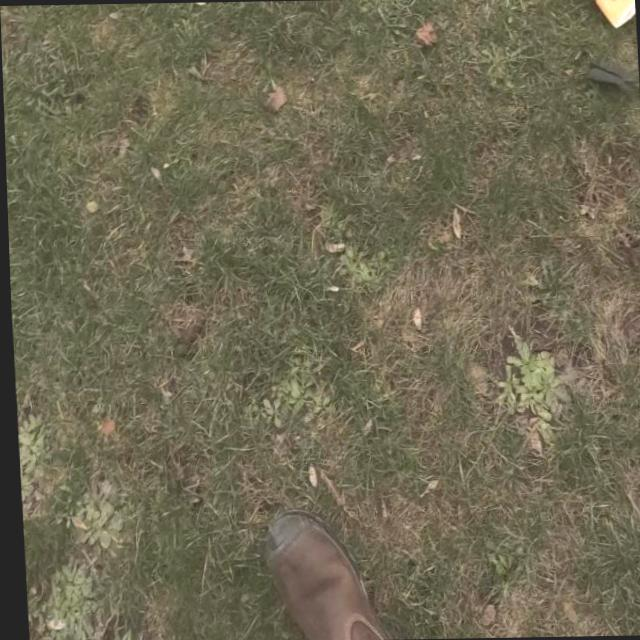Cup: (581, 0, 636, 32)
